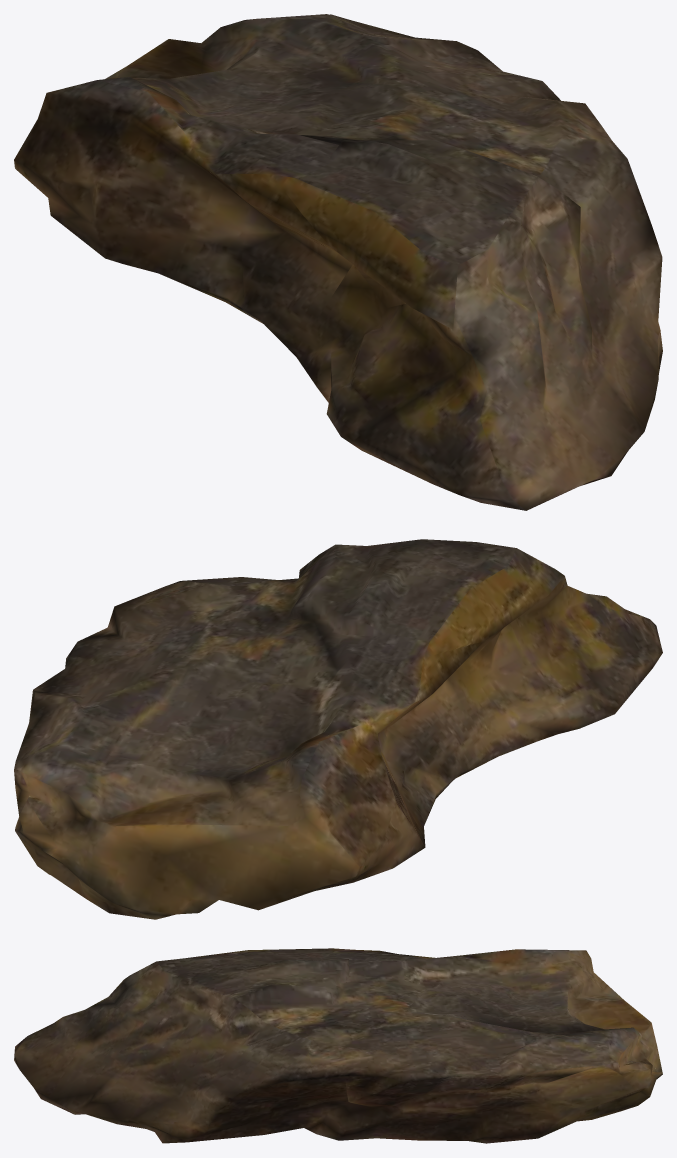
File: rock_09.glb
3 views of the same model, one above another, from view 1: azimuth 30°, elevation 25°; view 2: azimuth 150°, elevation 25°; view 3: azimuth 270°, elevation 25° (orthographic). The views are drawn at different scales.
Visible parts, largest first — view 1: rock_09_LOD0; view 2: rock_09_LOD0; view 3: rock_09_LOD0.
Boxes of the visible parts, box(x1,y1,x2,y2) form: rock_09_LOD0: box(14, 14, 662, 510); rock_09_LOD0: box(14, 539, 662, 919); rock_09_LOD0: box(14, 948, 662, 1143).
Size of the model in its own units: 0.0738 by 0.0326 by 0.1442.
Materials: 1 (1 with a texture image).
